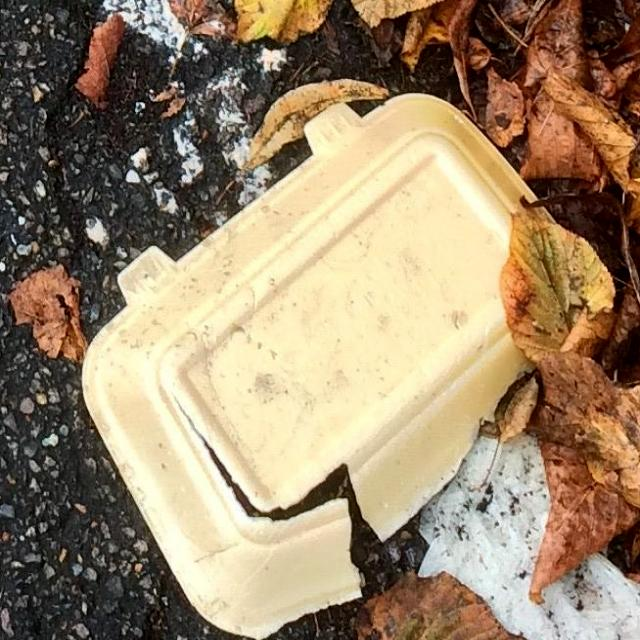Trash: (43, 58, 633, 640)
